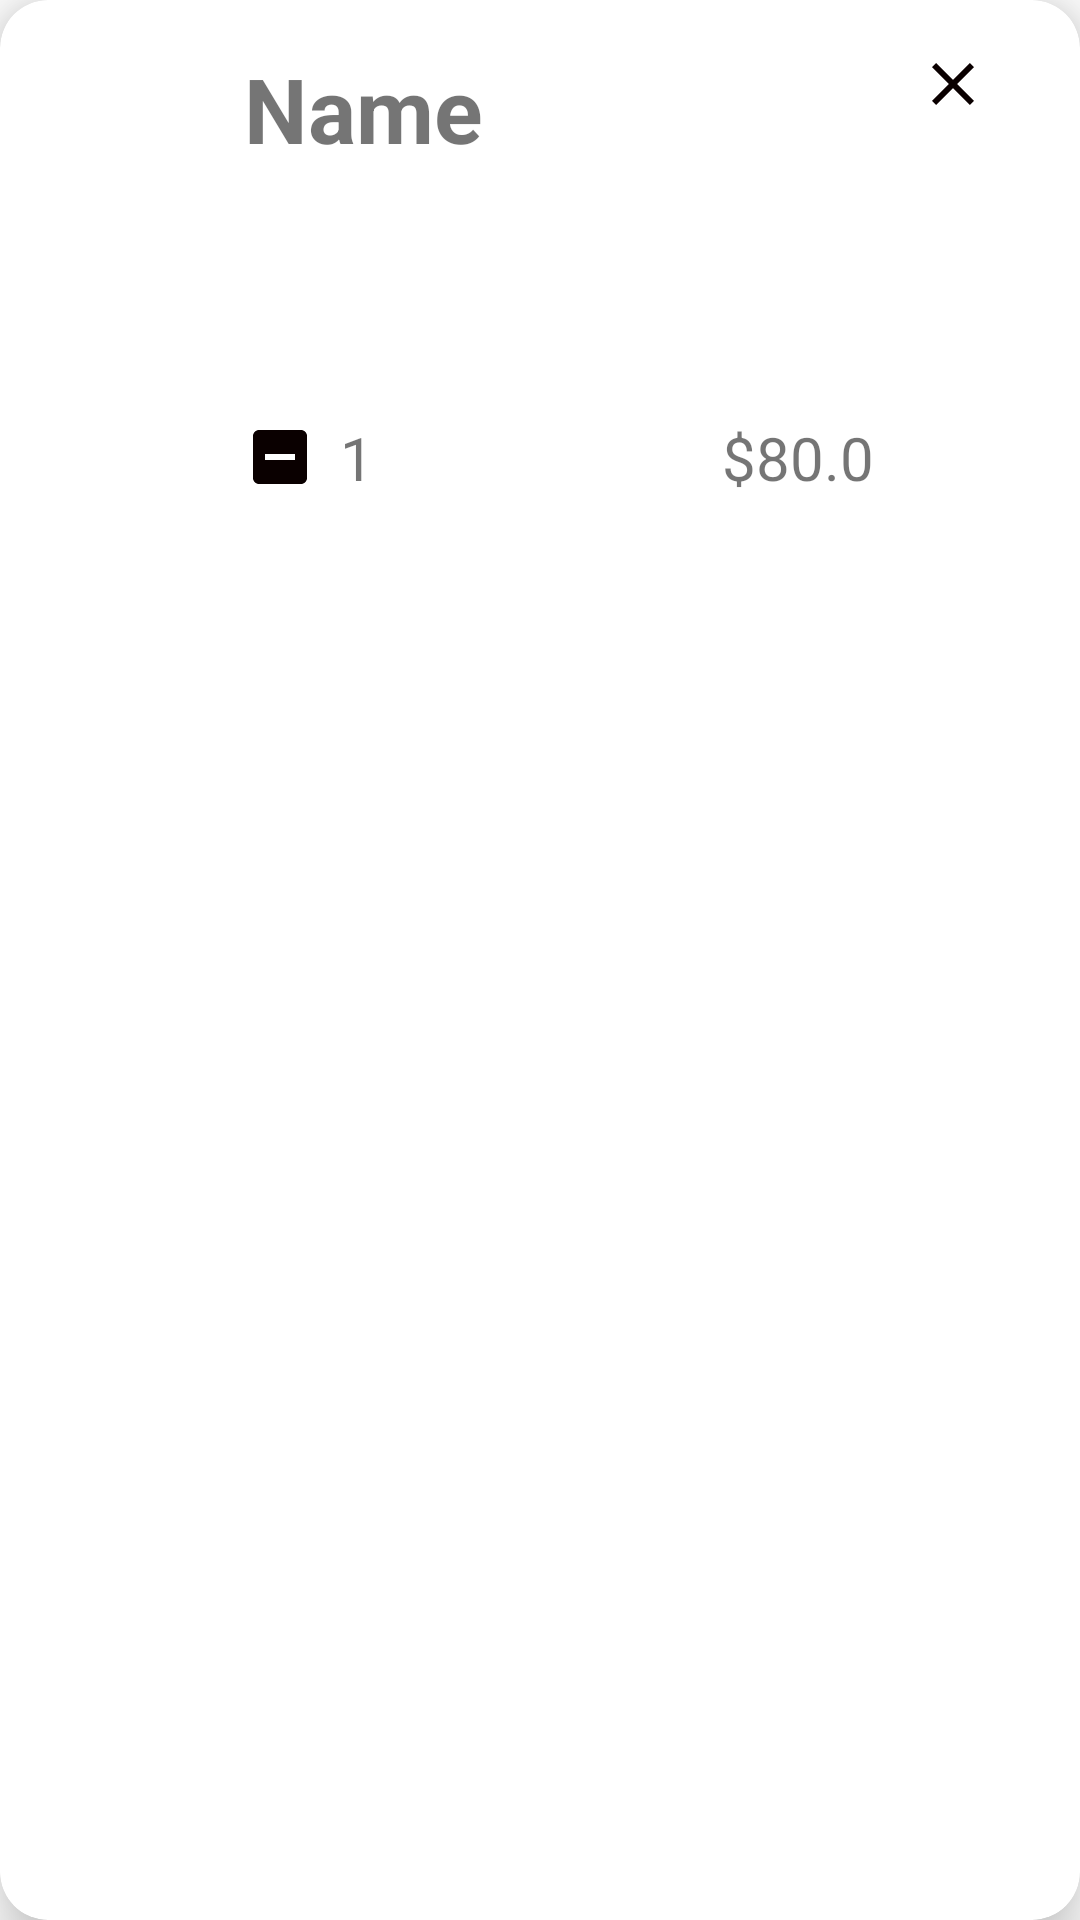

Screen size 1080 x 1920. Icon name, then its center in pixels as [x,y]:
clear: [953,84]
indeterminate check box: [280,457]
